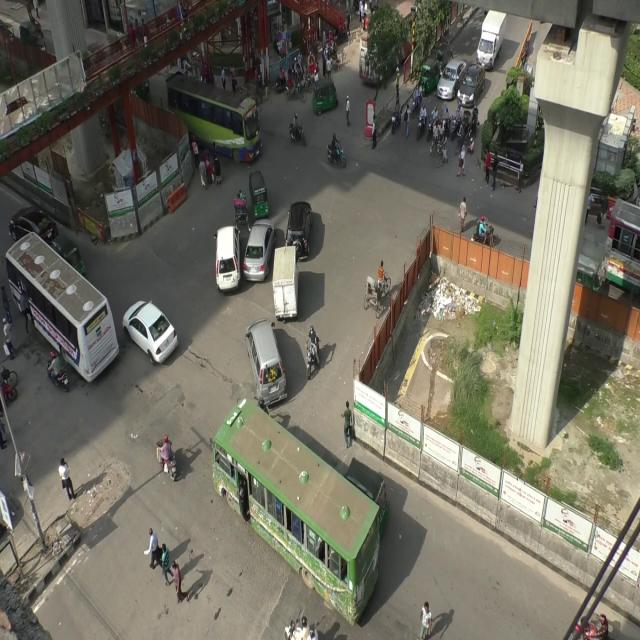cng: (247, 168, 270, 220), (311, 79, 338, 113), (421, 55, 438, 103), (435, 44, 451, 77)
rikshaw: (363, 256, 392, 316), (456, 111, 474, 159), (431, 118, 446, 168), (283, 70, 306, 102), (232, 187, 248, 230), (328, 43, 350, 69), (294, 60, 312, 89), (306, 52, 319, 80)
